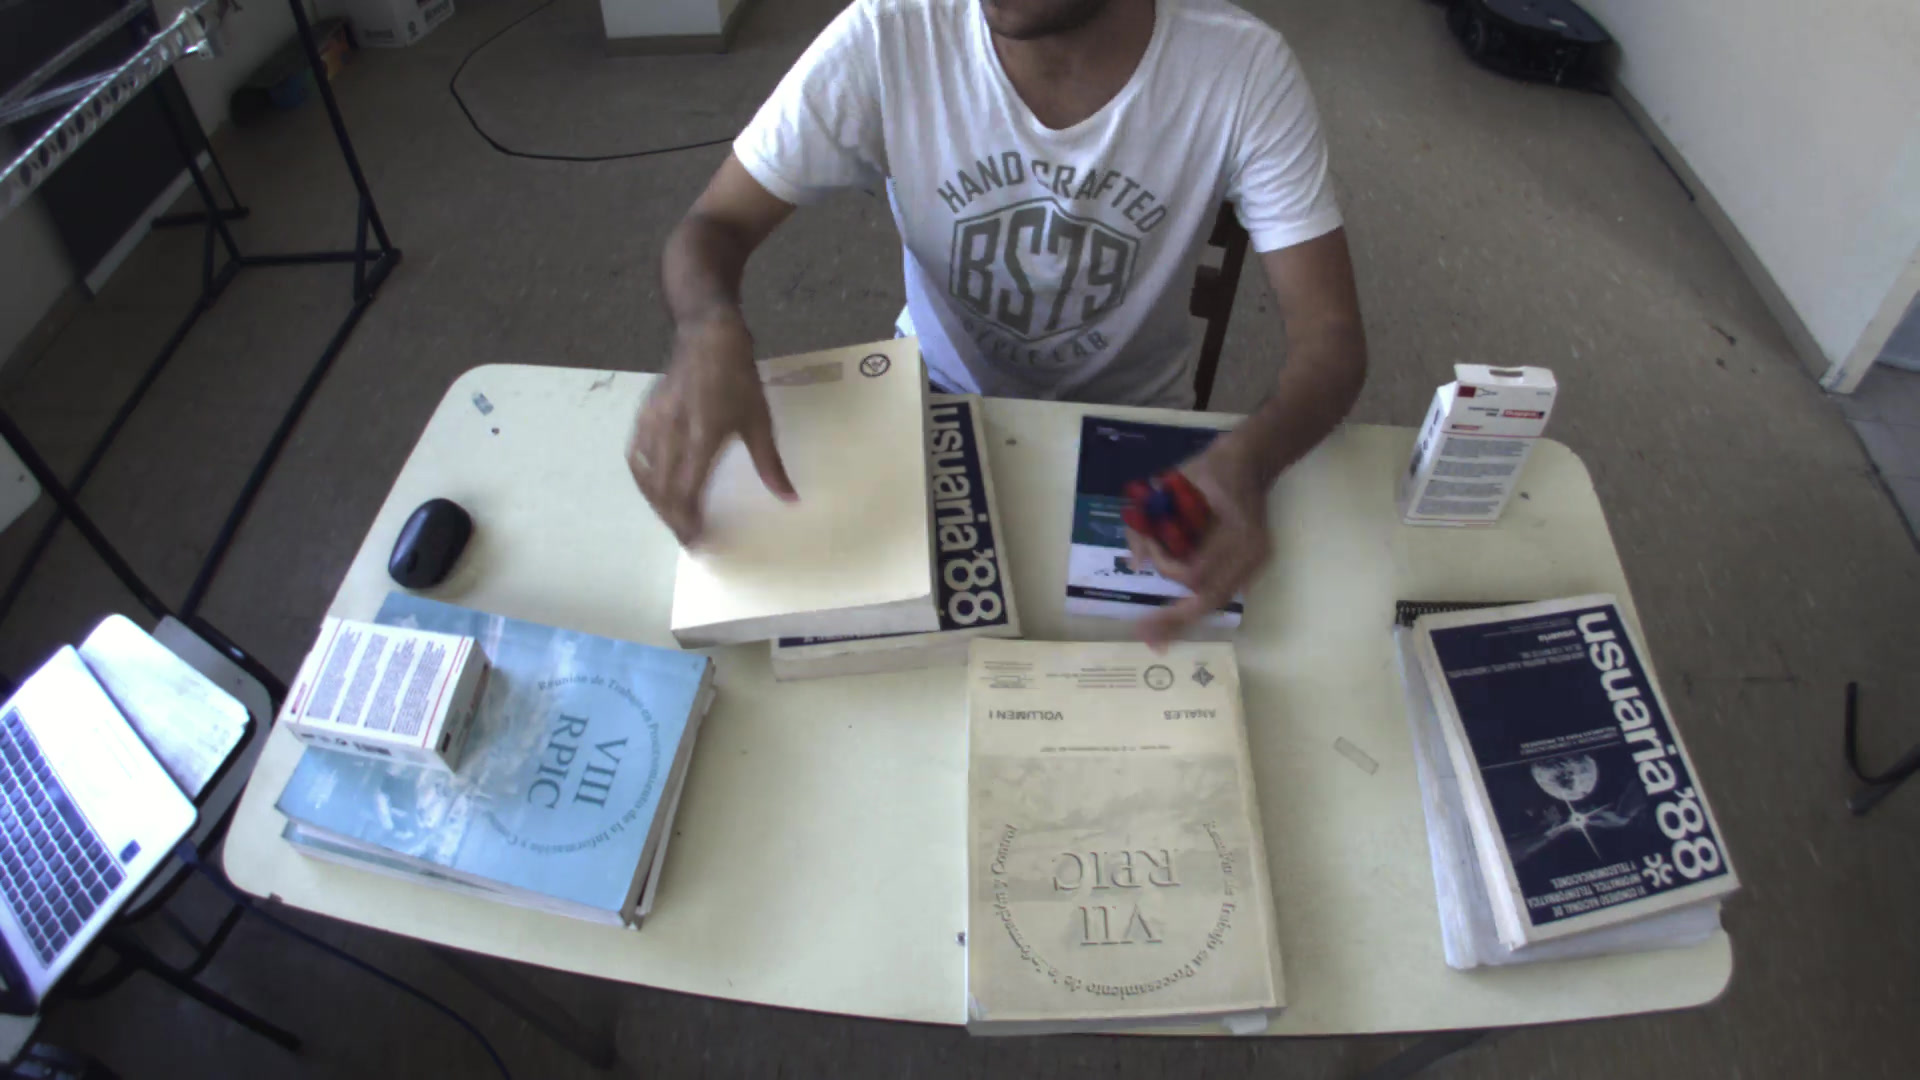hand: (611, 313, 814, 537), (1105, 462, 1288, 657)
